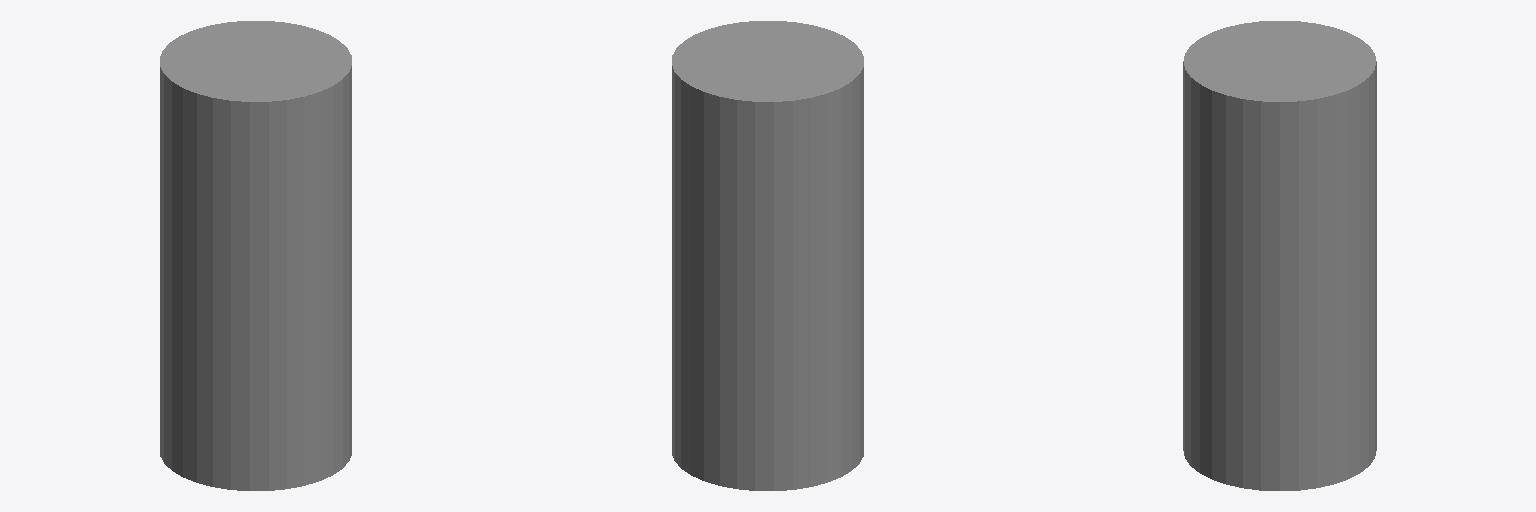
File: pino_modelagem.obj
3 views of the same model, side by side, from view 1: azimuth 30°, elevation 25°; view 2: azimuth 150°, elevation 25°; view 3: azimuth 270°, elevation 25° (orthographic).
Parts seen in each view (by area): view 1: Cylinder; view 2: Cylinder; view 3: Cylinder.
Boxes of the visible parts, x1=… form: Cylinder: x1=160, y1=21, x2=351, y2=490; Cylinder: x1=672, y1=21, x2=863, y2=490; Cylinder: x1=1183, y1=21, x2=1376, y2=490.
Size of the model in its own units: 0.9 by 2 by 0.9.